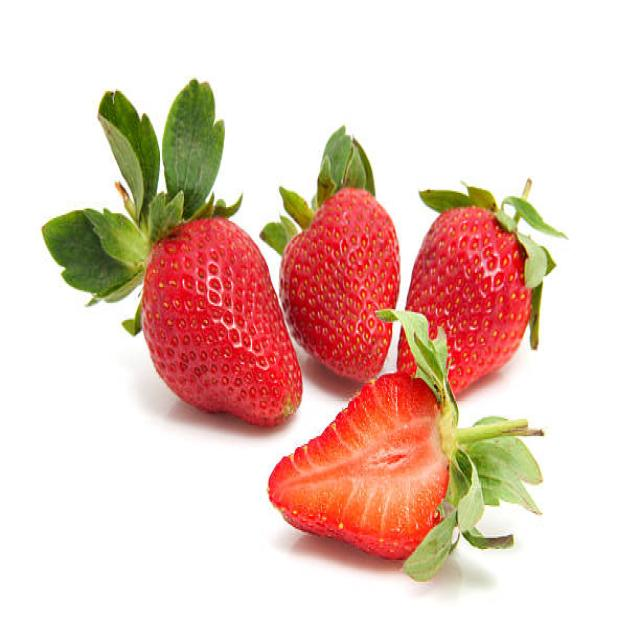Healthy Fruit: (141, 216, 303, 424), (267, 372, 444, 561), (396, 203, 530, 399), (278, 188, 401, 381)
